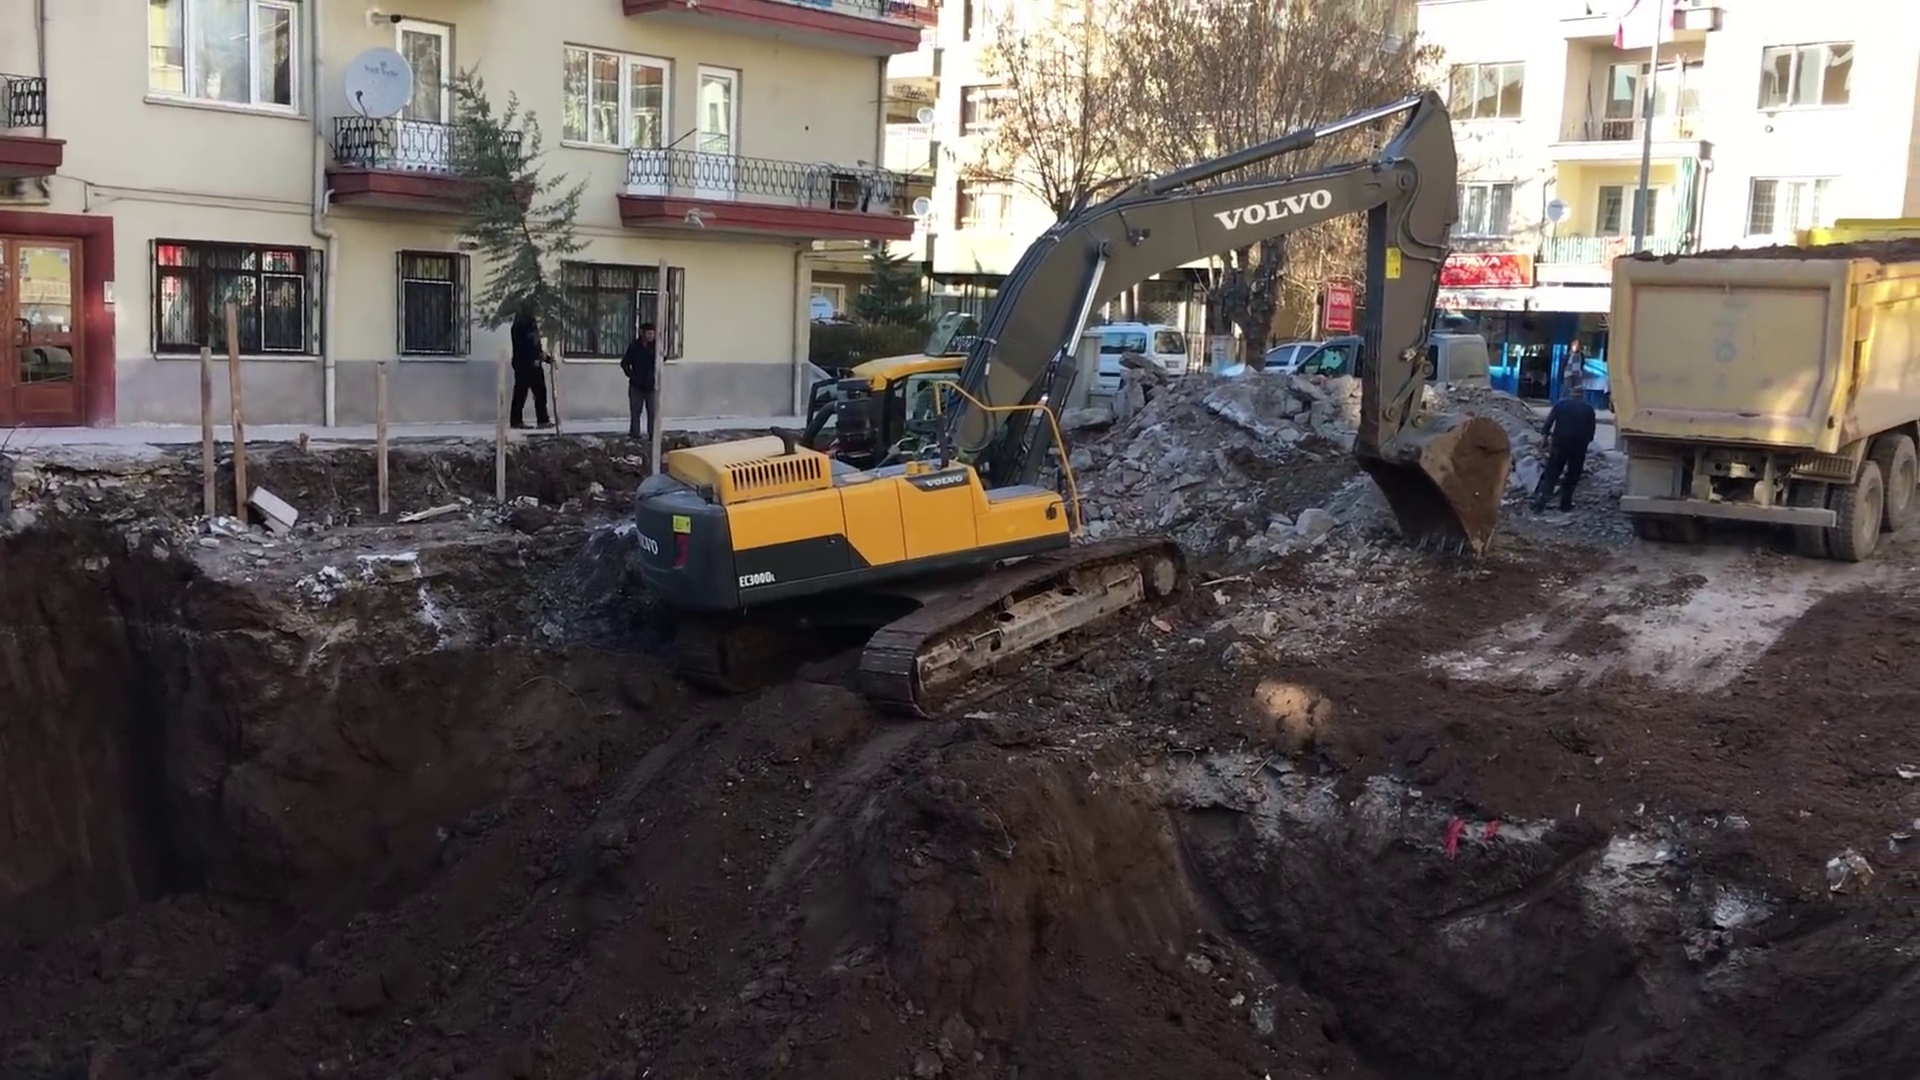car: (1309, 332, 1485, 400), (1069, 319, 1188, 385), (1221, 336, 1324, 395)
excavator: (635, 92, 1511, 714)
person: (1532, 366, 1597, 520), (510, 301, 560, 433), (619, 319, 664, 440)
truck: (1602, 217, 1920, 563)
